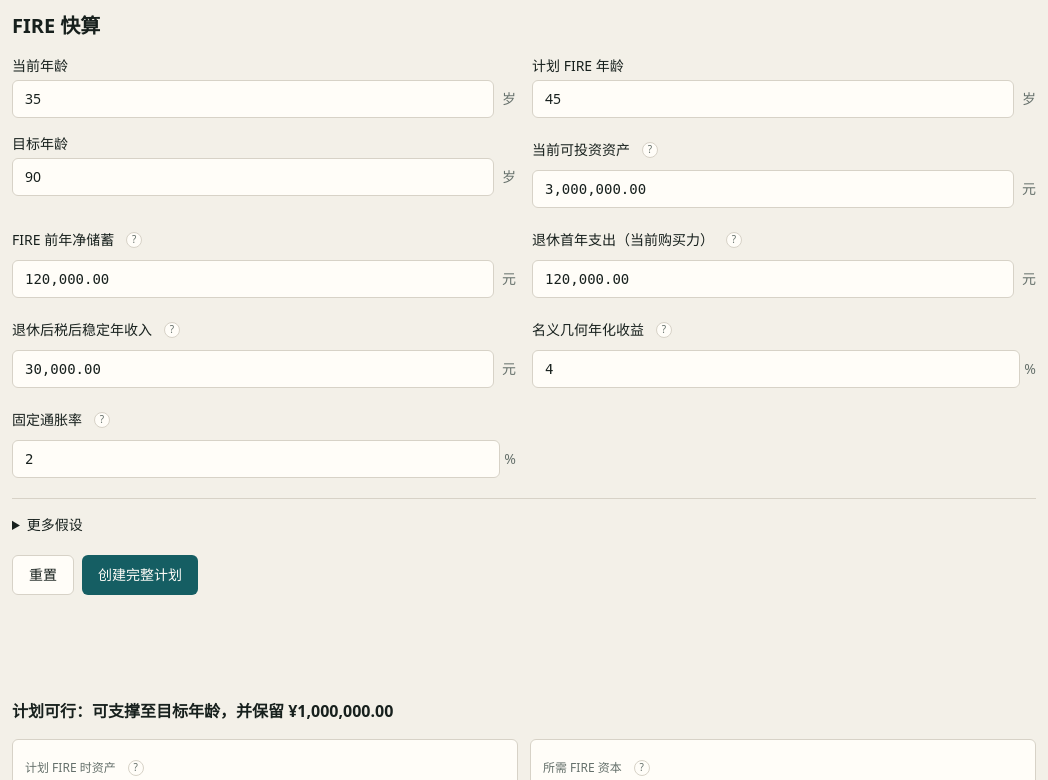
Scenario: QuickFirePage › ignores a superseded response that resolves after the latest request
The width and height of the screenshot is (1048, 780).
Replace the text in the field labelled "退休首年支出（当前购买力）" with "130000" at (773, 279), box 532,260 -> 1014,298
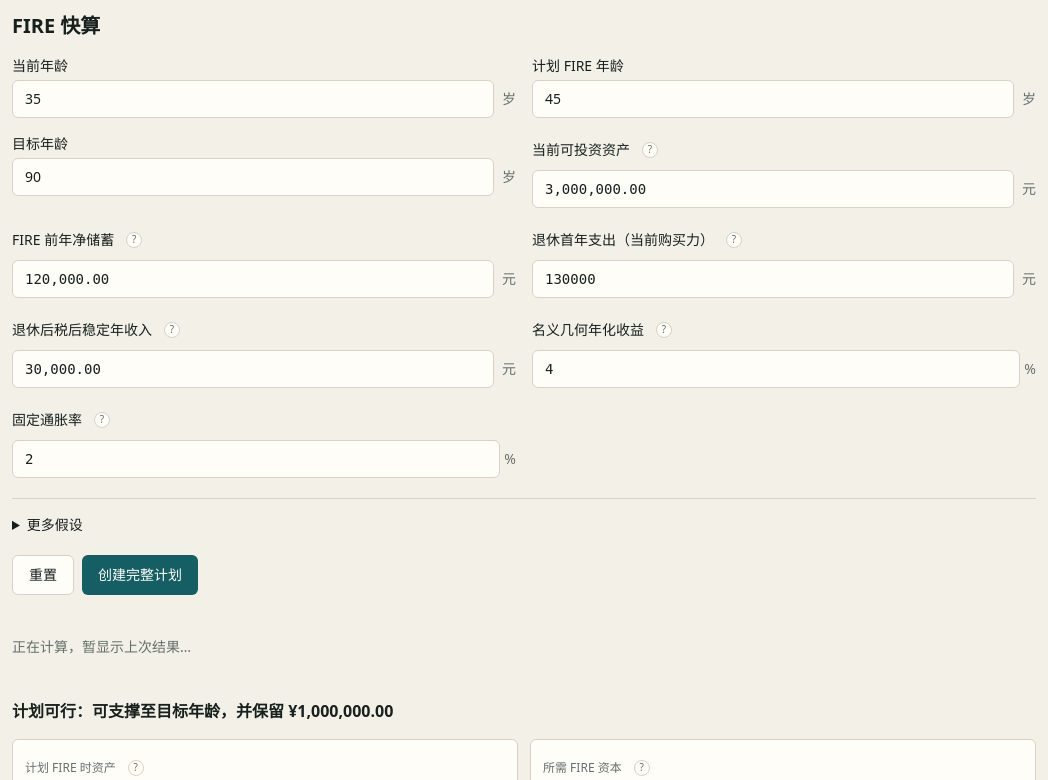
Replace the text in the field labelled "退休首年支出（当前购买力）" with "140000" at (773, 279), box 532,260 -> 1014,298
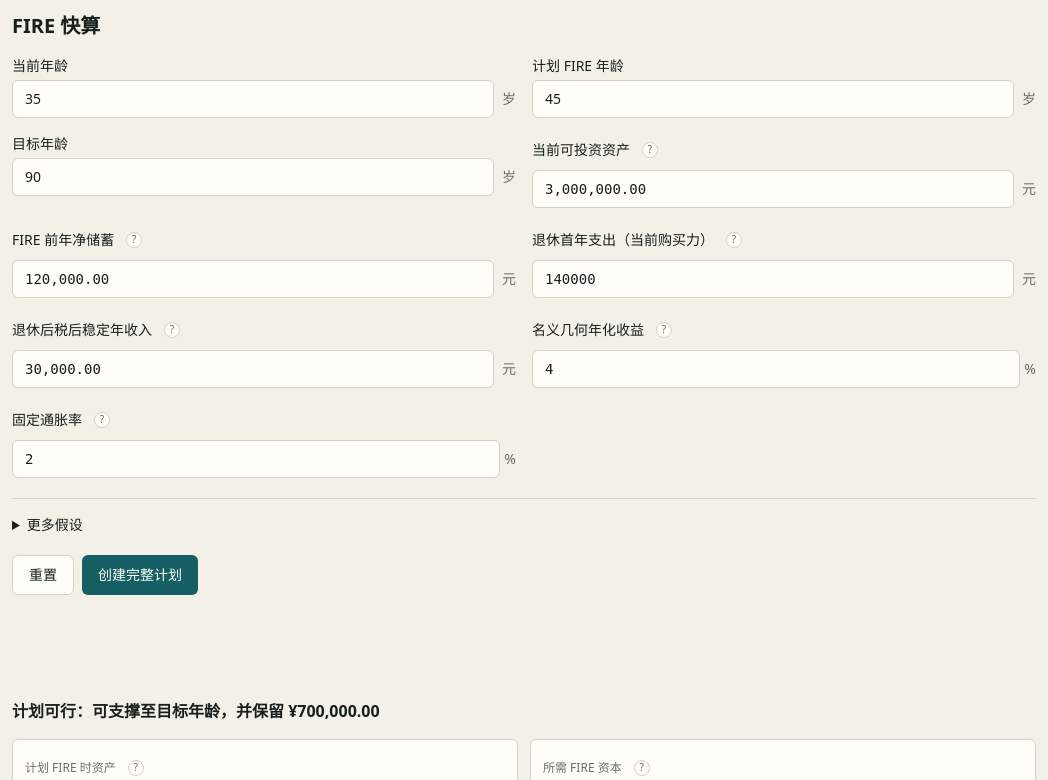
Now the text with test id "quick-fire-outcome" shows "700,000", box 12,700 -> 380,722
